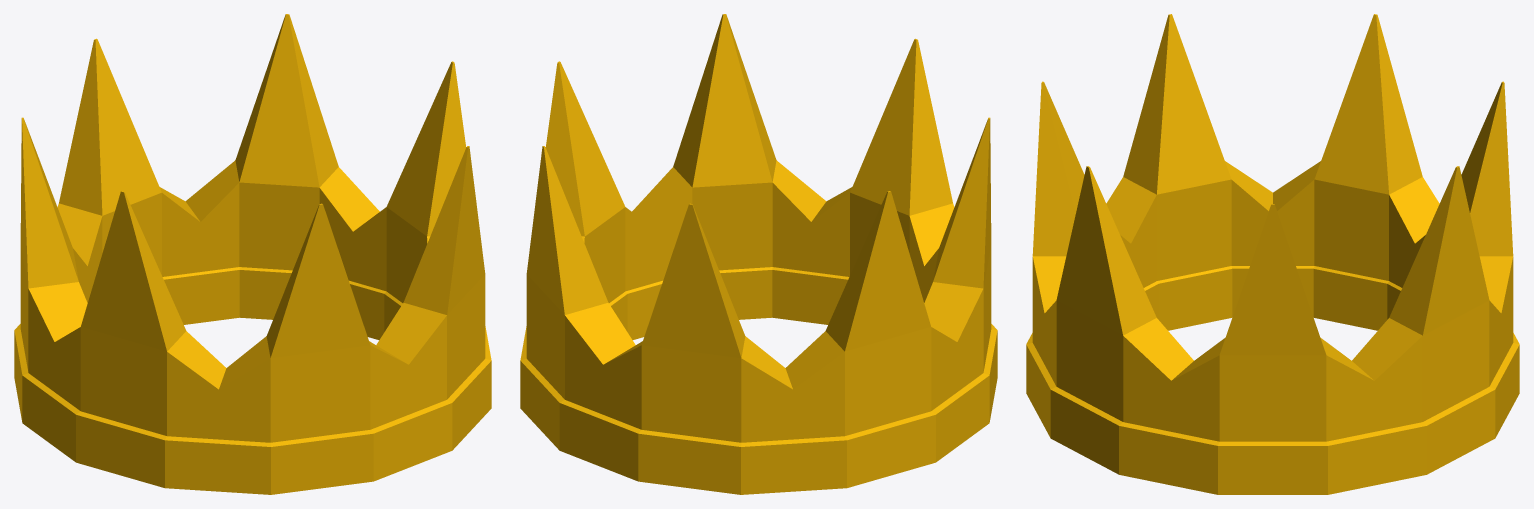
The model's file is Crown.FBX.
3 views of the same model, side by side, from view 1: azimuth 30°, elevation 25°; view 2: azimuth 150°, elevation 25°; view 3: azimuth 270°, elevation 25° (orthographic). The views are drawn at different scales.
Visible parts, largest first — view 1: Tube001; view 2: Tube001; view 3: Tube001.
Part boxes in pixels (left/top/right/bottom): Tube001: left=14, top=14, right=491, bottom=494; Tube001: left=520, top=14, right=997, bottom=494; Tube001: left=1026, top=14, right=1519, bottom=494.
Bounding box in the file's own units: 187 × 123 × 191.
